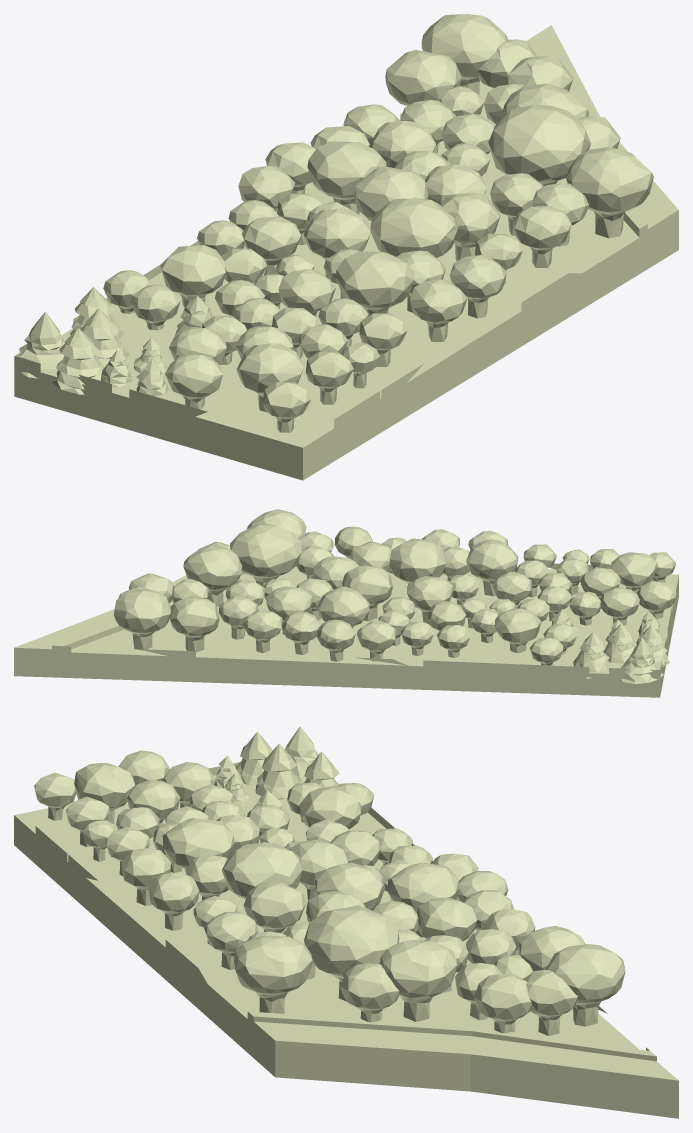
File: station.glb
3 renders of one model, top to bottom at view 1: azimuth 30°, elevation 25°; view 2: azimuth 150°, elevation 25°; view 3: azimuth 270°, elevation 25°, orthographic. The views are drawn at different scales.
Parts seen in each view (by area): view 1: station-unique-geometry; view 2: station-unique-geometry; view 3: station-unique-geometry.
Boxes of the visible parts, x1,y1,x2,y2 form: station-unique-geometry: (14,14,678,480); station-unique-geometry: (14,509,678,697); station-unique-geometry: (14,726,678,1118).
Size of the model in its own units: 142 by 24.19 by 120.
